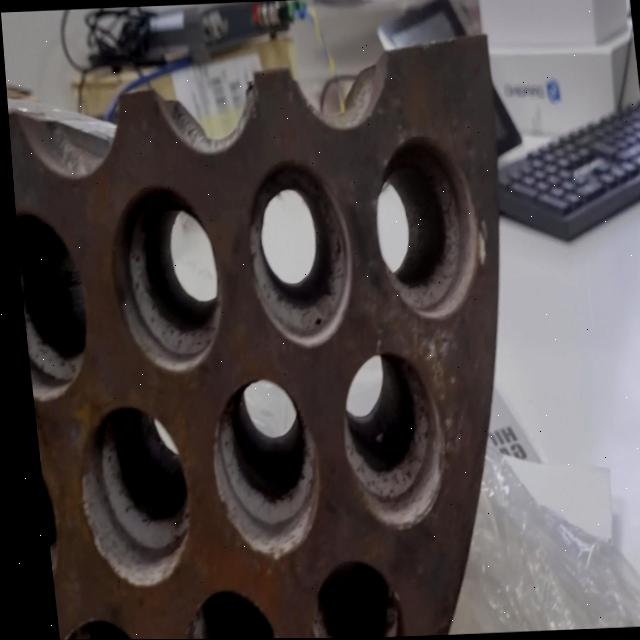Hole: (99, 181, 224, 373), (63, 400, 189, 589), (362, 132, 485, 321), (196, 374, 319, 561), (235, 157, 354, 348), (328, 347, 445, 531), (12, 206, 89, 402), (295, 556, 394, 638), (156, 585, 268, 639), (28, 428, 56, 605), (46, 613, 139, 640)
